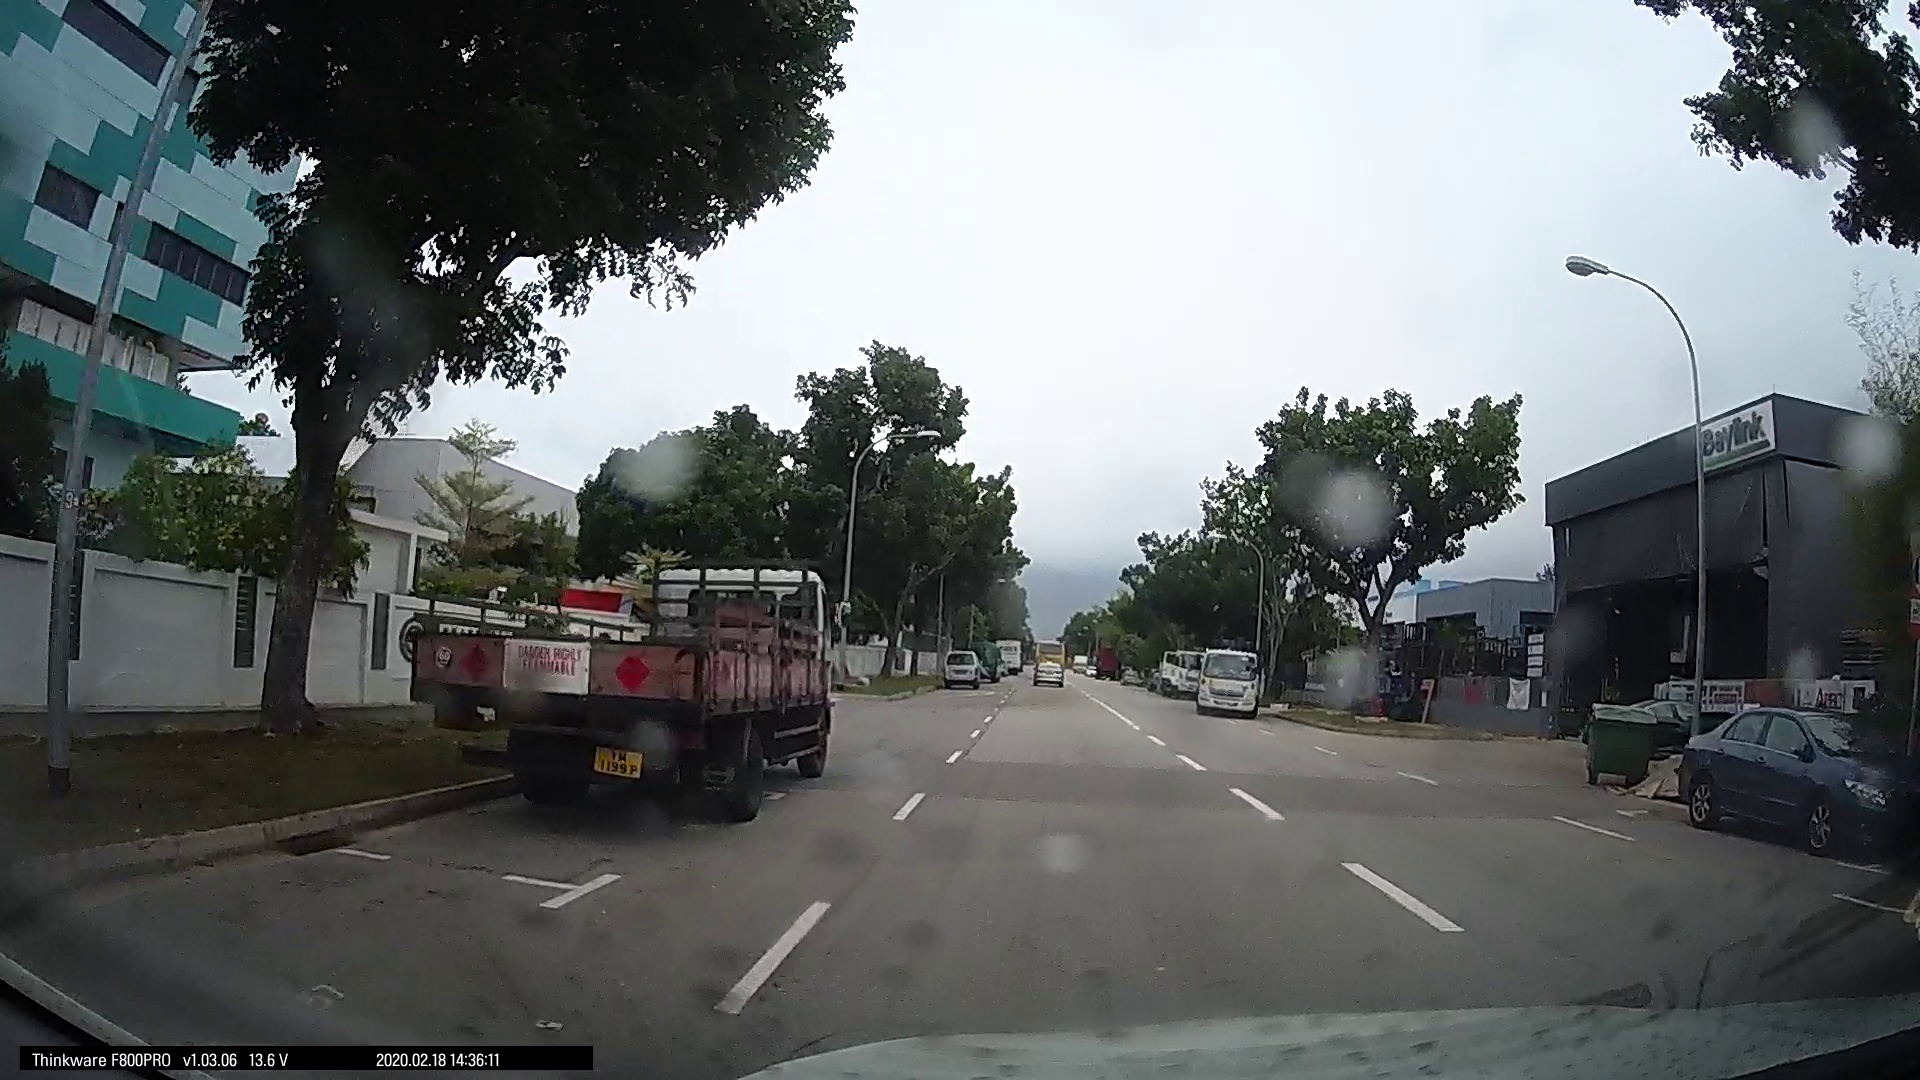Heavy Vehicle: (431, 545, 847, 811)
Light Vehicle: (1673, 702, 1911, 855), (1185, 644, 1261, 716), (938, 644, 986, 688), (1023, 644, 1064, 684)
